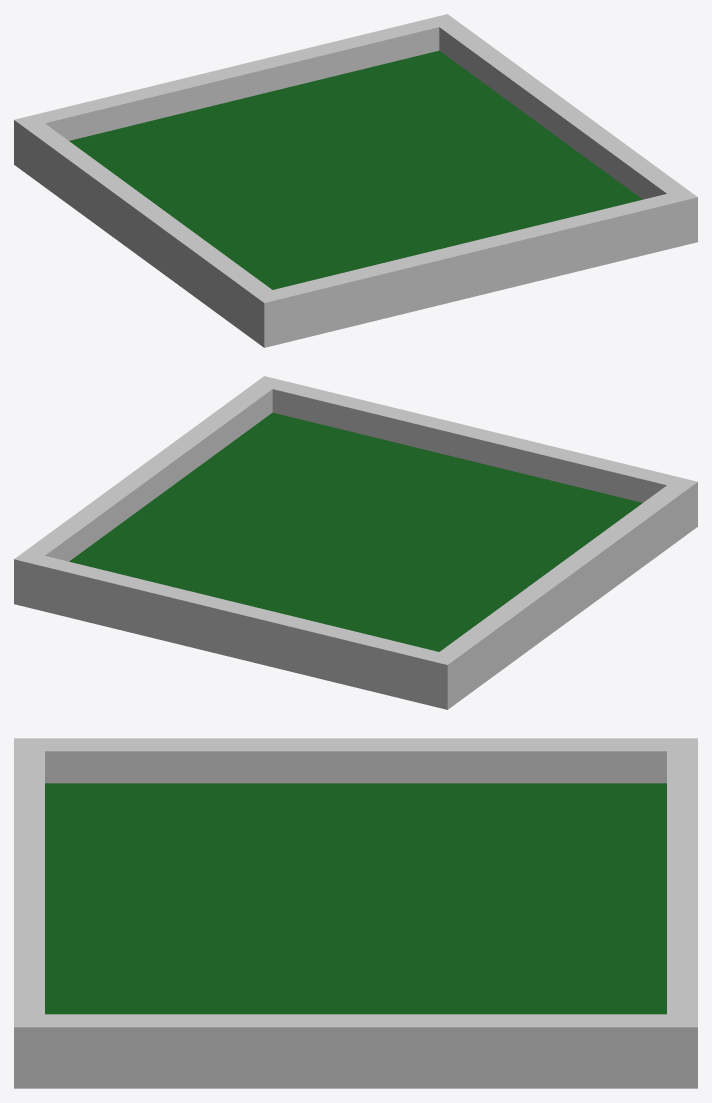
File: Macetero Bueno.fbx
3 renders of one model, top to bottom at view 1: azimuth 30°, elevation 25°; view 2: azimuth 150°, elevation 25°; view 3: azimuth 270°, elevation 25°, orthographic. The views are drawn at different scales.
Parts seen in each view (by area): view 1: Cube; view 2: Cube; view 3: Cube.
Boxes of the visible parts, box(x1,y1,x2,y2) form: Cube: box(14, 14, 697, 347); Cube: box(14, 376, 697, 709); Cube: box(14, 738, 697, 1088).
Size of the model in its own units: 200 by 19.78 by 200.
